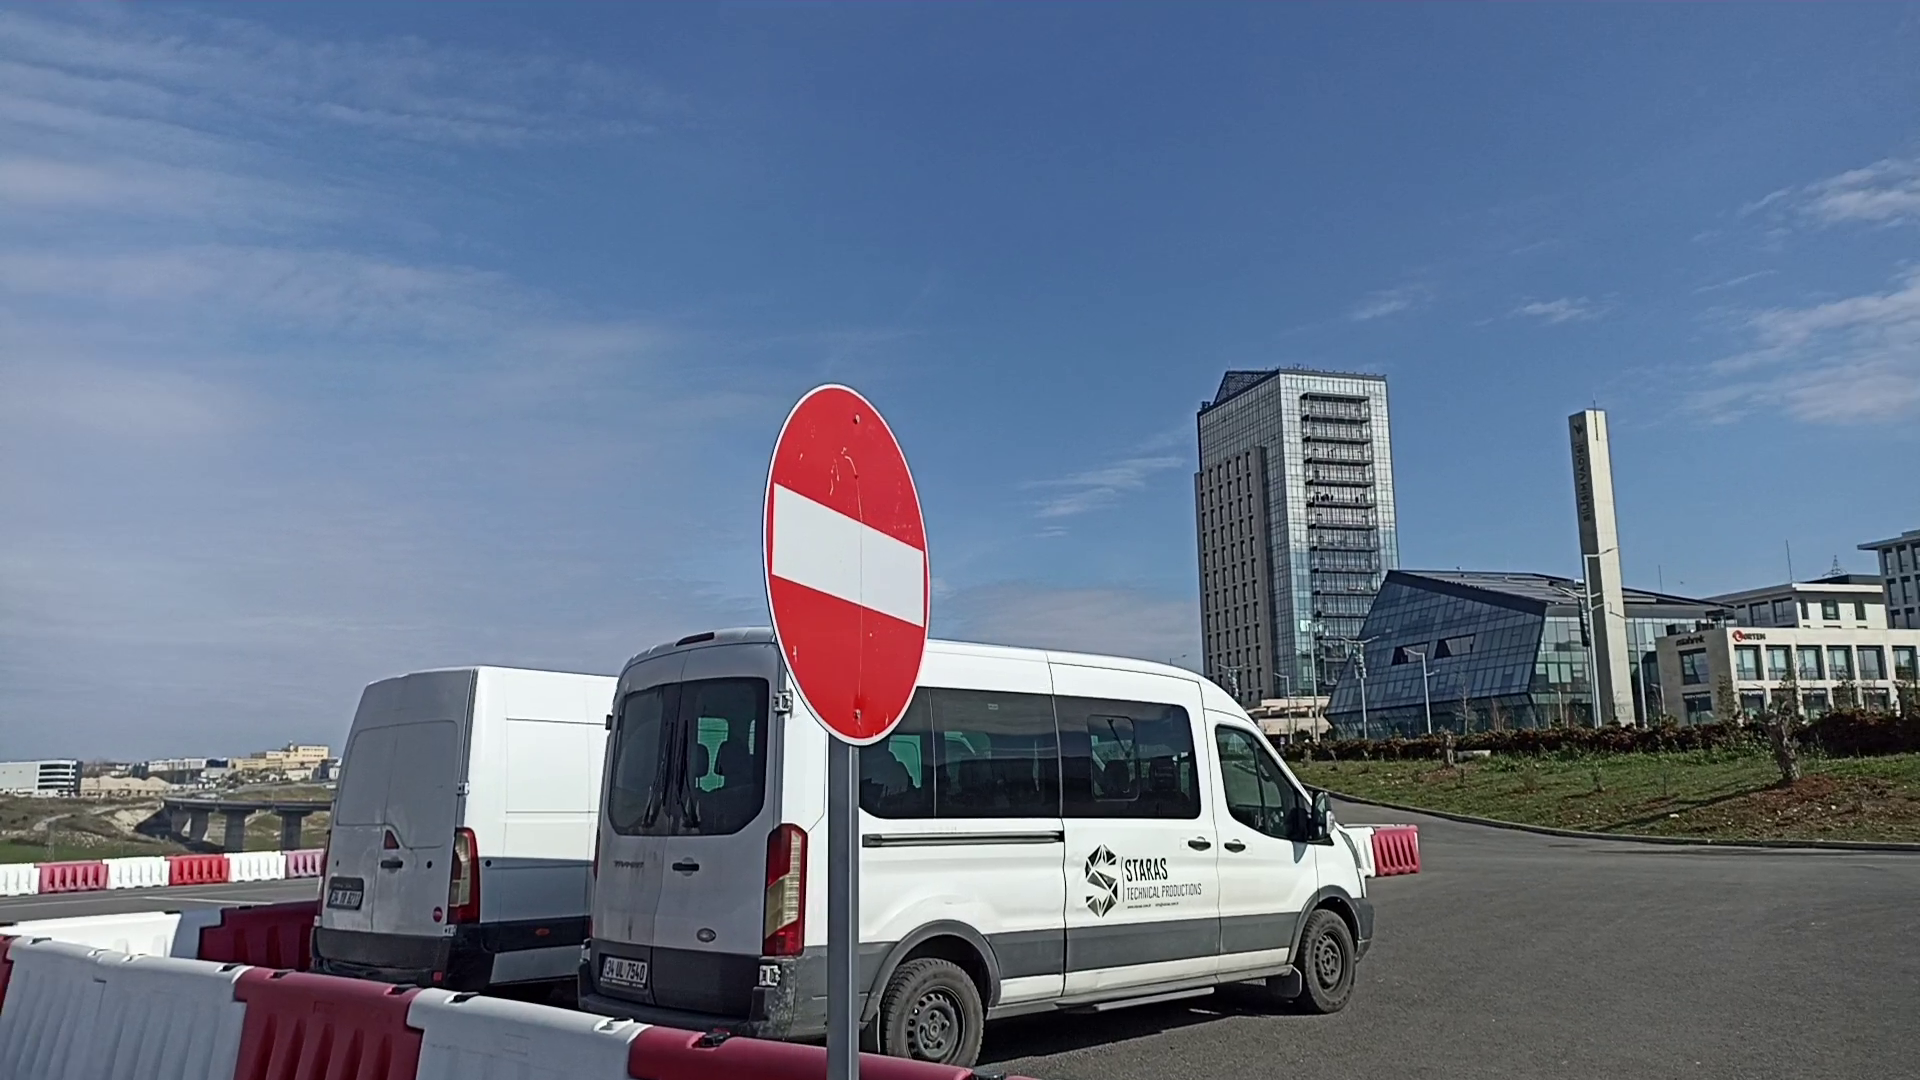noentryway: (758, 375, 938, 758)
